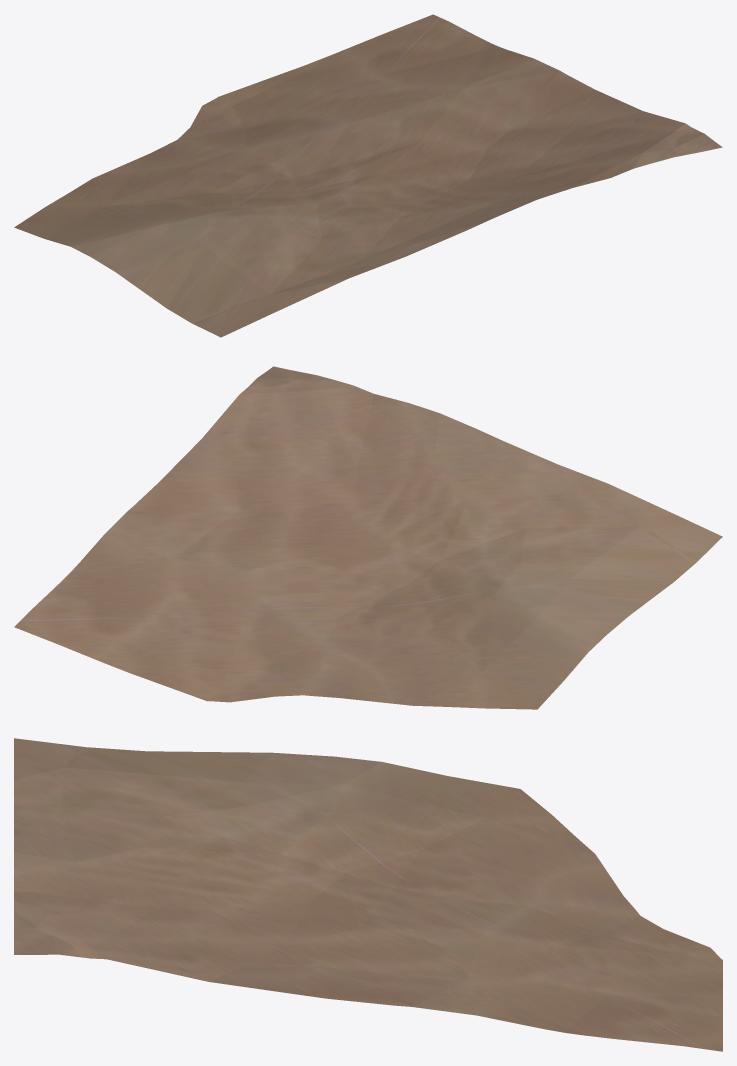
3 renders of one model, top to bottom at view 1: azimuth 30°, elevation 25°; view 2: azimuth 150°, elevation 25°; view 3: azimuth 270°, elevation 25°, orthographic. The views are drawn at different scales.
Bounding box in the file's own units: 1.04 × 0.2212 × 1.04.
Materials: 2 (2 with a texture image).
